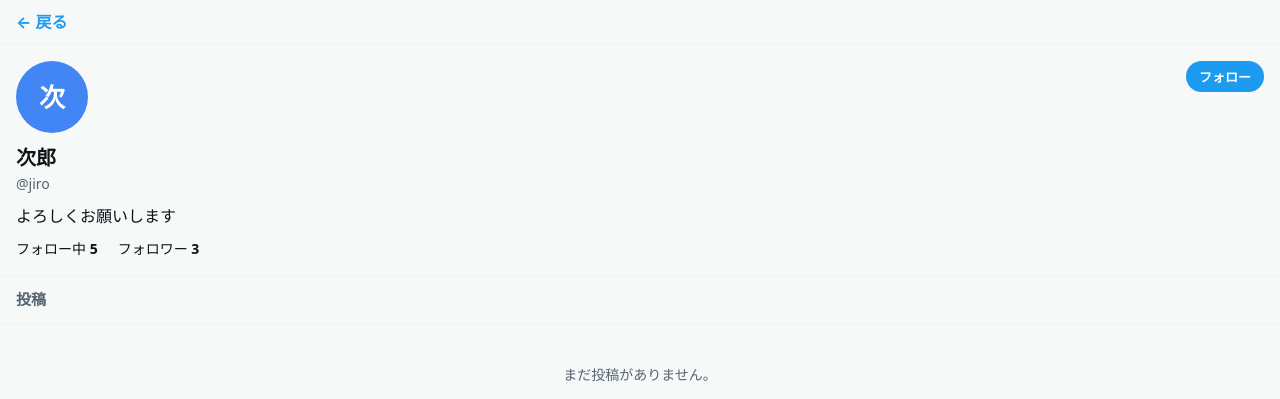
it: ProfilePage › shows a follow button on another user profile and toggles on click
Click the button "フォロー" at [1225, 76], box [1186, 61, 1264, 92]
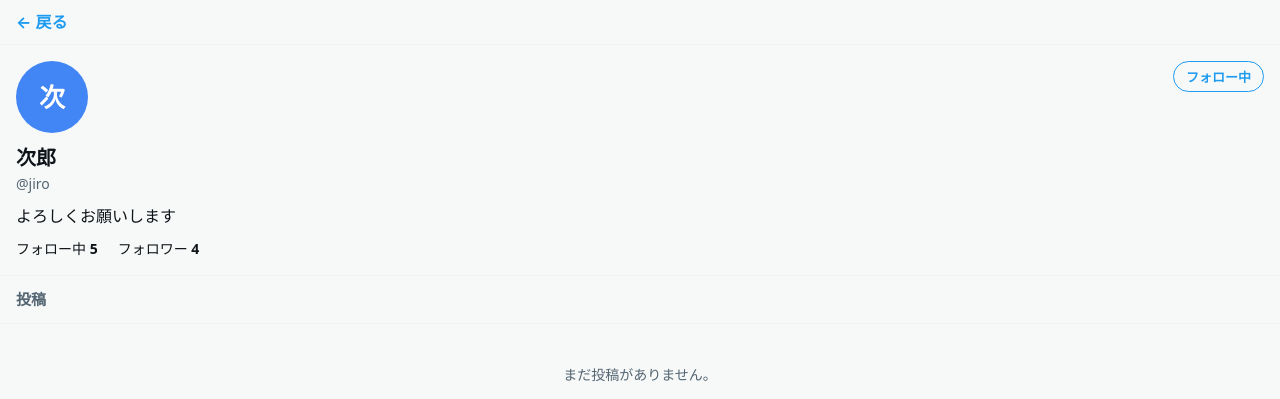
Now the button "フォロー中" is shown, box [1173, 61, 1264, 92]
